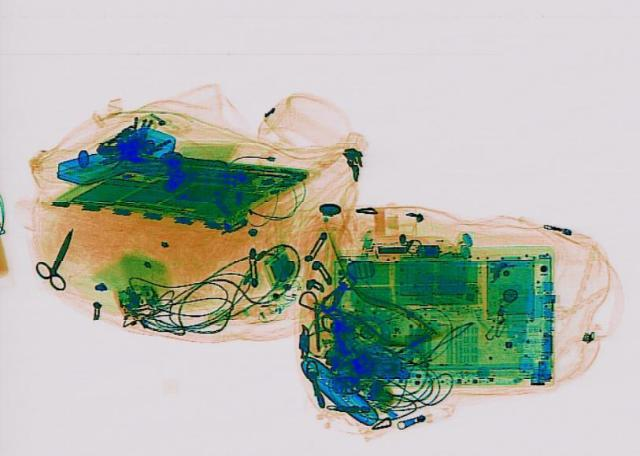Scissors: (24, 223, 92, 289)
